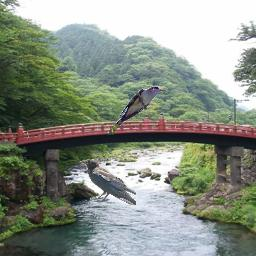Crow: (79, 159, 136, 205)
Cuckoo: (108, 86, 165, 135)
